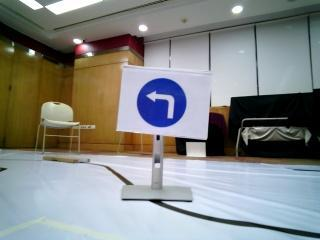left: (126, 65, 202, 139)
